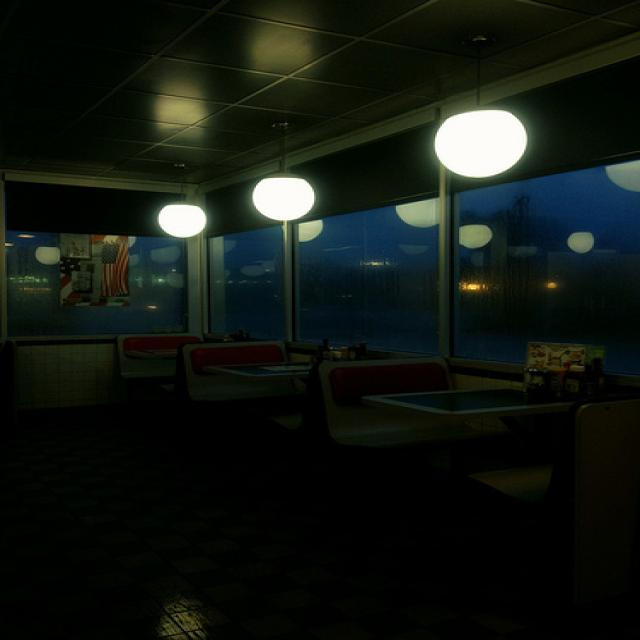Table: (367, 371, 640, 441), (205, 336, 399, 378)
chair: (166, 320, 348, 363), (93, 330, 194, 389), (299, 360, 476, 390)
